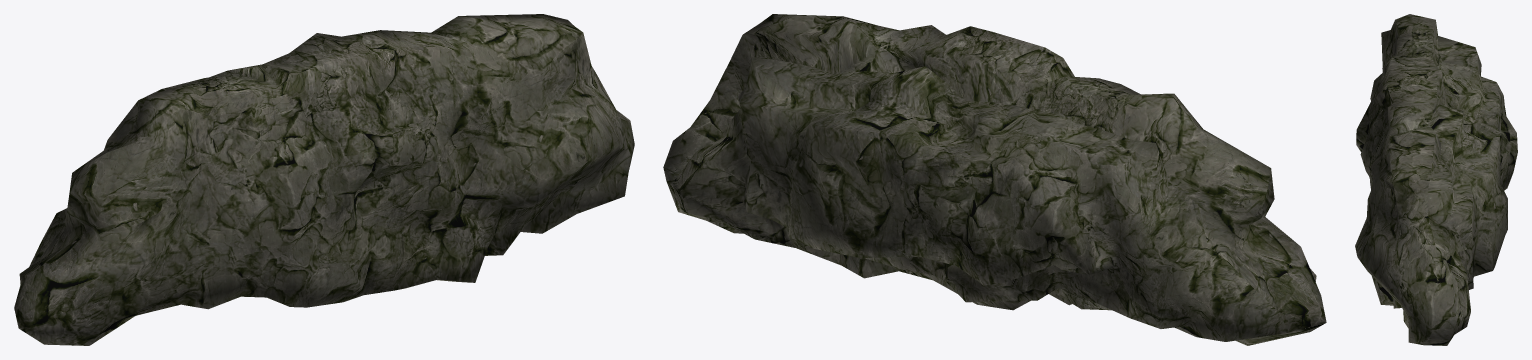
File: TI_Cliff_03_j.fbx
3 renders of one model, left to right at view 1: azimuth 30°, elevation 25°; view 2: azimuth 150°, elevation 25°; view 3: azimuth 270°, elevation 25°, orthographic. The views are drawn at different scales.
Parts seen in each view (by area): view 1: TI_Cliff_03_j; view 2: TI_Cliff_03_j; view 3: TI_Cliff_03_j.
Part boxes in pixels (x1,y1,x2,y2): TI_Cliff_03_j: [14, 14, 634, 345]; TI_Cliff_03_j: [663, 14, 1326, 345]; TI_Cliff_03_j: [1355, 14, 1517, 345].
Bounding box in the file's own units: 9.82 × 3.82 × 2.87.
